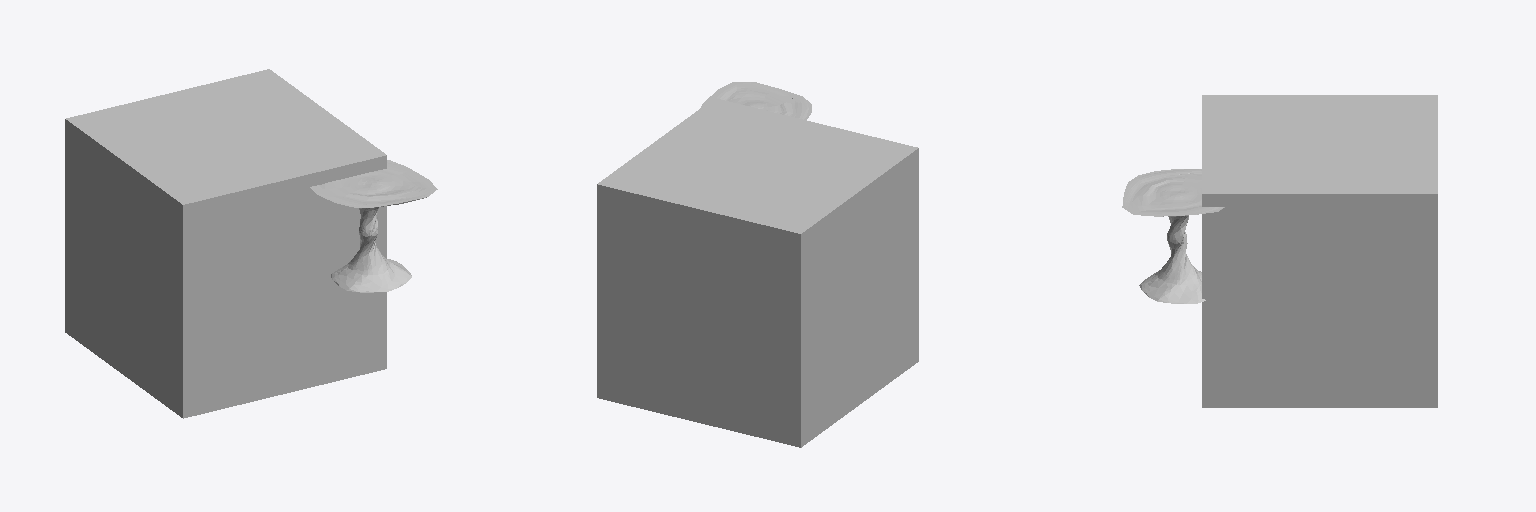
3 renders of one model, left to right at view 1: azimuth 30°, elevation 25°; view 2: azimuth 150°, elevation 25°; view 3: azimuth 270°, elevation 25°, orthographic.
Parts seen in each view (by area): view 1: Cube, Table_02__0; view 2: Cube, Table_02__0; view 3: Cube, Table_02__0.
Boxes of the visible parts, x1,y1,x2,y2 form: Cube: [65, 69, 386, 418]; Table_02__0: [310, 160, 437, 292]; Cube: [597, 98, 918, 447]; Table_02__0: [701, 82, 811, 119]; Cube: [1202, 95, 1437, 407]; Table_02__0: [1122, 169, 1224, 303].
Size of the model in its own units: 2.19 by 2 by 2.67.